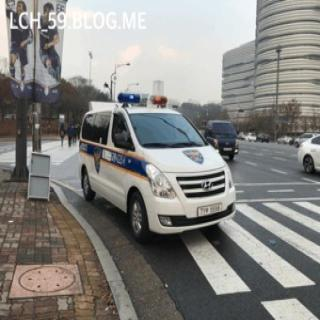Police_car: (80, 90, 238, 242)
